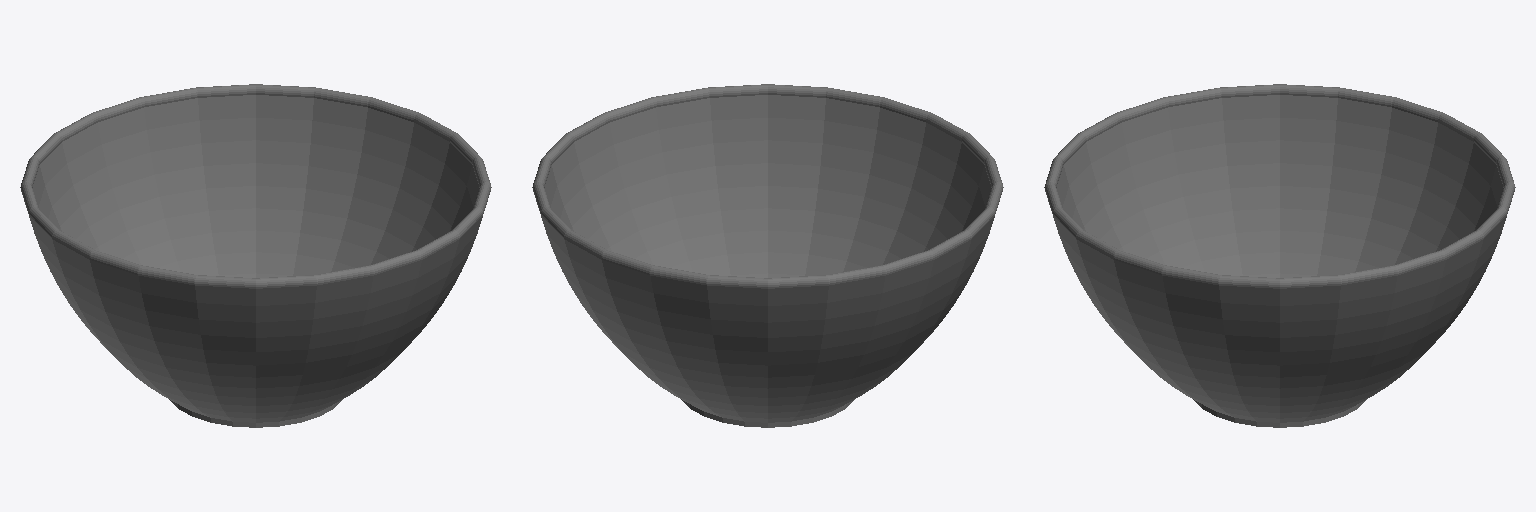
The robot description file, URDF, robot "object":
<?xml version="1.0"?>
<robot name="object">
  <link name="object">
    <visual>
      <origin xyz="0 0 0"/>
      <geometry>
        <mesh
          filename="../../mesh/oakink_virtual/bowl_s149.stl" />
      </geometry>
      <material name="mat">
        <color rgba="0.5 0.5 0.5 1"/>
      </material>
    </visual>

    <collision>
      <origin xyz="0 0 0"/>
      <geometry>
        <mesh
          filename="../../mesh/oakink_virtual/bowl_s149.stl" />
      </geometry>
    </collision>
  </link>
</robot>

--- Render facts (derived) ---
Views: 3 orthographic renders of the robot side by side, from view 1: azimuth 30°, elevation 25°; view 2: azimuth 150°, elevation 25°; view 3: azimuth 270°, elevation 25°.
Model object with 1 links and 0 joints (none), rooted at object, posed all joints at 0.
Links seen in each view (by area): view 1: object; view 2: object; view 3: object.
Boxes of the visible links, x1,y1,x2,y2 form: object: [20, 84, 491, 427]; object: [532, 84, 1003, 427]; object: [1044, 84, 1515, 427].
Bounding box of the posed robot: 0.1473 × 0.1473 × 0.0719 m (x, y, z).
Meshes: 1 distinct files referenced, 1 mesh visuals loaded (1 binary STL).